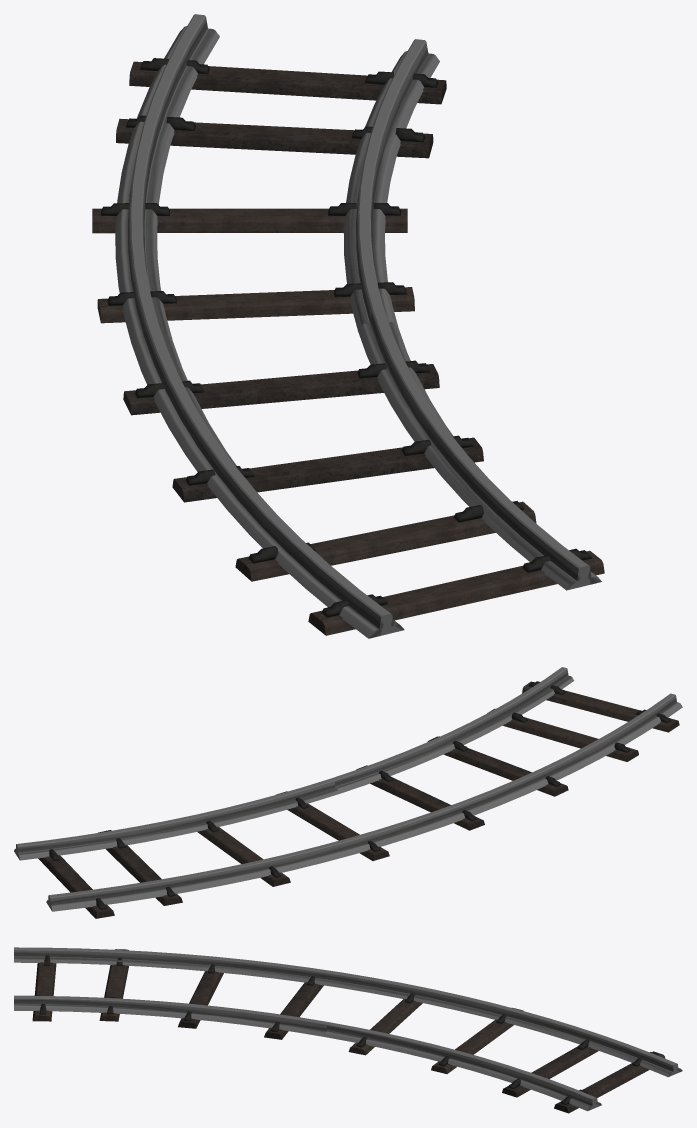
Rendered from TrainTrack_curved.fbx.
3 renders of one model, top to bottom at view 1: azimuth 30°, elevation 25°; view 2: azimuth 150°, elevation 25°; view 3: azimuth 270°, elevation 25°, orthographic. The views are drawn at different scales.
Visible parts, largest first — view 1: TrainTrack_curved; view 2: TrainTrack_curved; view 3: TrainTrack_curved.
Boxes of the visible parts, x1=… form: TrainTrack_curved: x1=92, y1=14, x2=604, y2=638; TrainTrack_curved: x1=14, y1=667, x2=682, y2=918; TrainTrack_curved: x1=14, y1=947, x2=682, y2=1113.
Bounding box in the file's own units: 17.77 × 0.7684 × 31.02.
